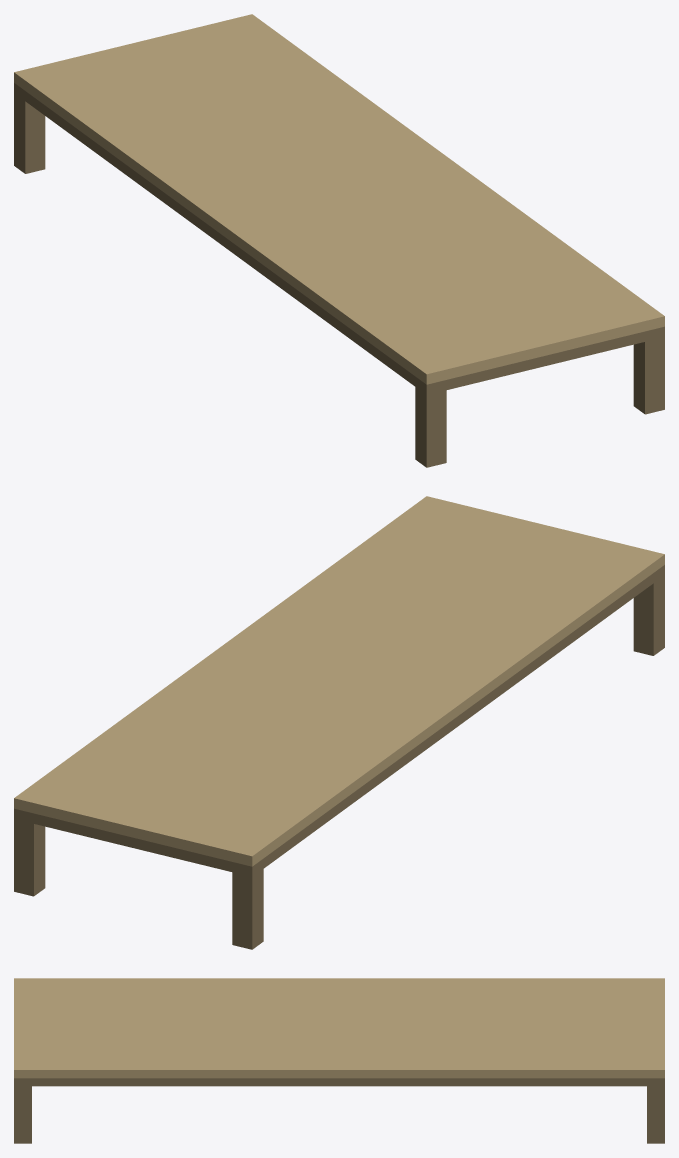
File: mesa_comedor_larga_tejo_01.glb
The picture shows the model from 3 angles, top to bottom: view 1: azimuth 30°, elevation 25°; view 2: azimuth 150°, elevation 25°; view 3: azimuth 270°, elevation 25°; orthographic projection. The views are drawn at different scales.
Parts seen in each view (by area): view 1: mesa_comedor_larga_tejo; view 2: mesa_comedor_larga_tejo; view 3: mesa_comedor_larga_tejo.
Part boxes in pixels (x1,y1,x2,y2): mesa_comedor_larga_tejo: (14, 14, 664, 467); mesa_comedor_larga_tejo: (14, 496, 664, 949); mesa_comedor_larga_tejo: (14, 978, 664, 1143).
Bounding box in the file's own units: 2 × 0.75 × 6.
